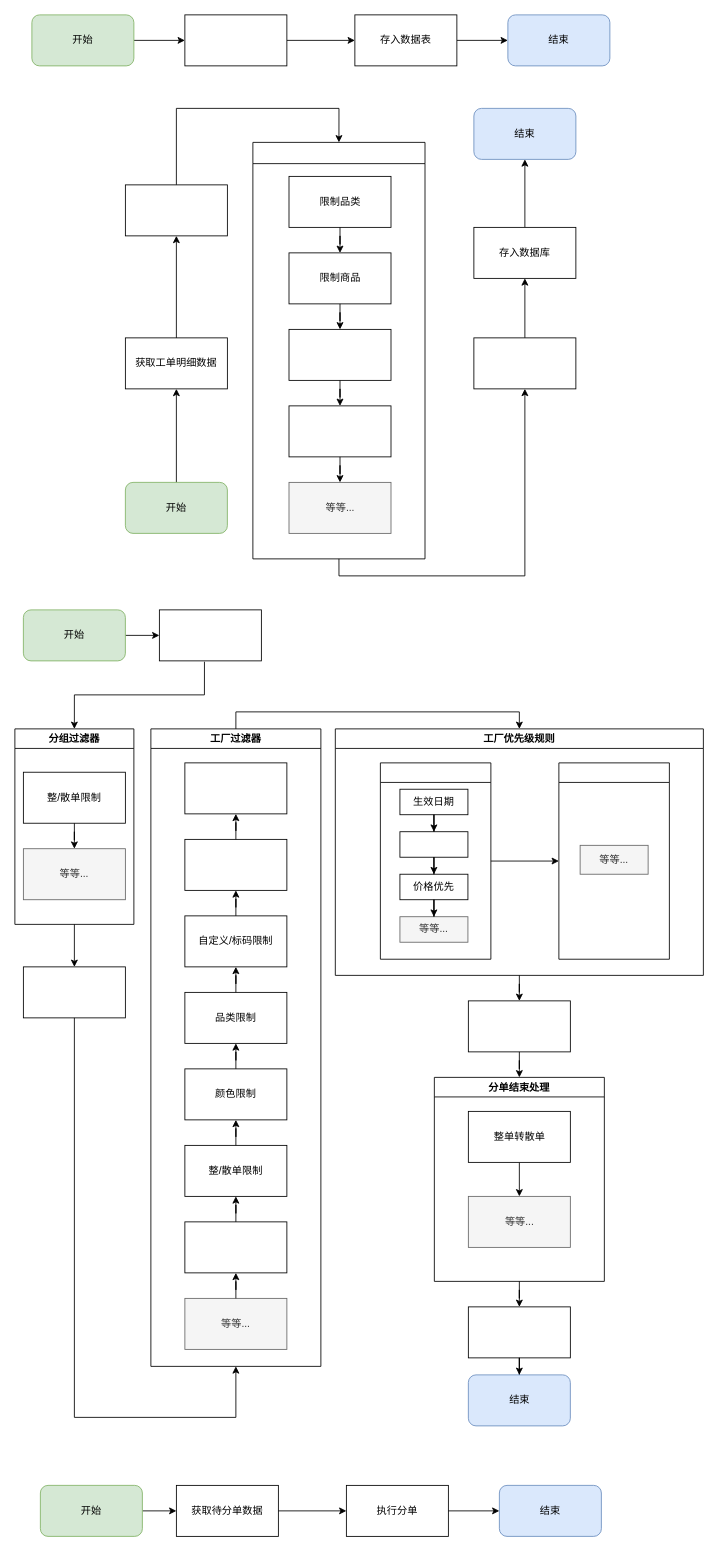
The diagram is 718 pixels wide and 1551 high, and some of its shapes have lost their labels. The shapes that lost their labels are listed below. From the top down, each one's box as (x1, y1, x2, y2) in pixels, then its label:
(184, 14, 287, 66): 准备工单明细数据
(125, 184, 227, 236): 执行分组规则
(252, 142, 425, 559): 分组器
(288, 329, 391, 380): 同颜色
(473, 337, 576, 389): 生成分组号
(288, 405, 391, 457): 同面辅料
(159, 609, 261, 661): 获取分组工单数据
(184, 762, 287, 814): 海外工厂限制
(399, 831, 468, 857): 锁定工厂
(380, 762, 491, 959): 排序器集合1
(558, 762, 669, 959): 排序器集合2
(184, 839, 287, 890): 单/多件单限制
(23, 966, 125, 1018): 获取备选工厂
(468, 1000, 570, 1052): 获取最优工厂
(184, 1221, 287, 1273): 计数限制
(468, 1306, 570, 1358): 保存数据
